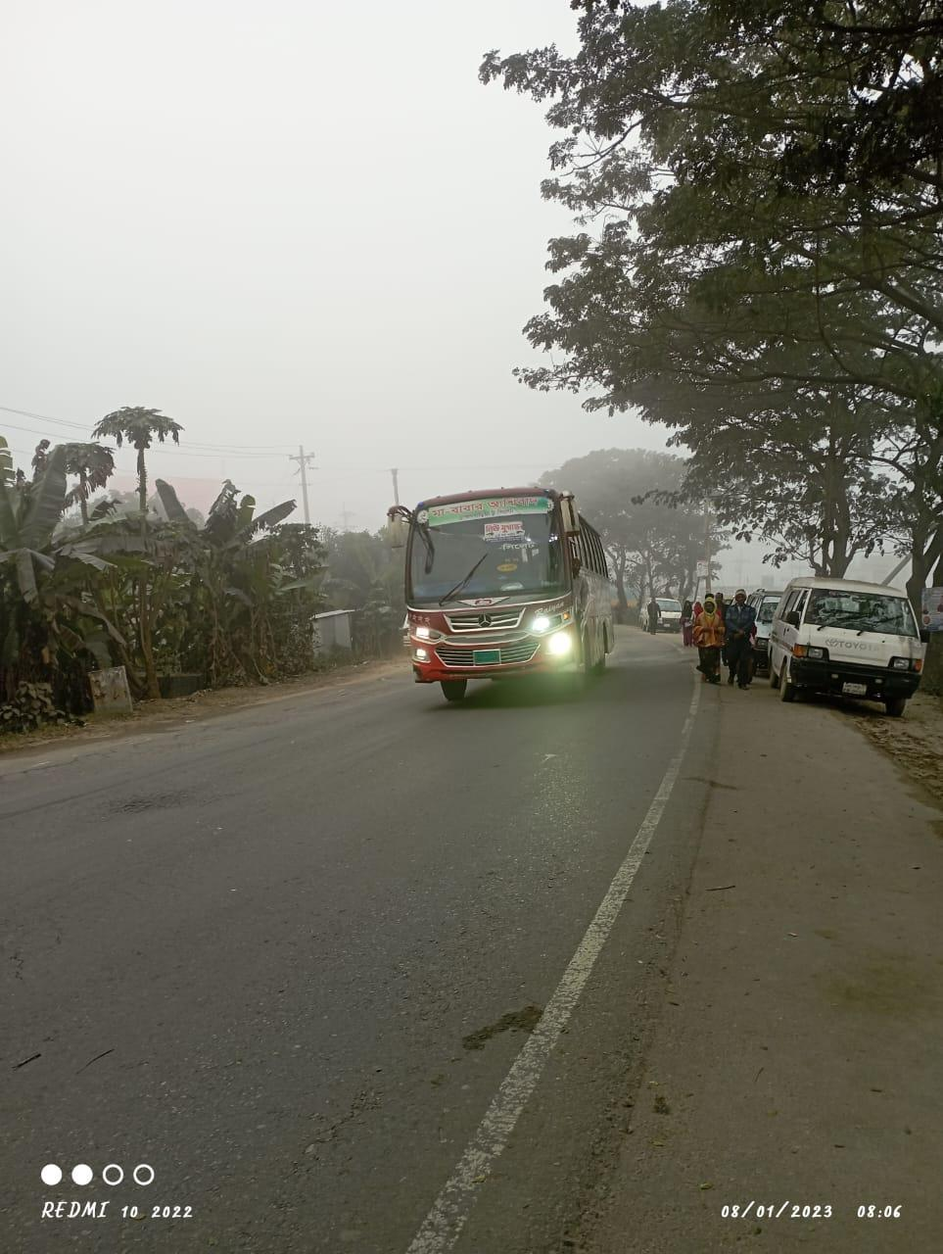Bus: (372, 482, 628, 701)
Car: (758, 569, 933, 712), (638, 584, 693, 632)
